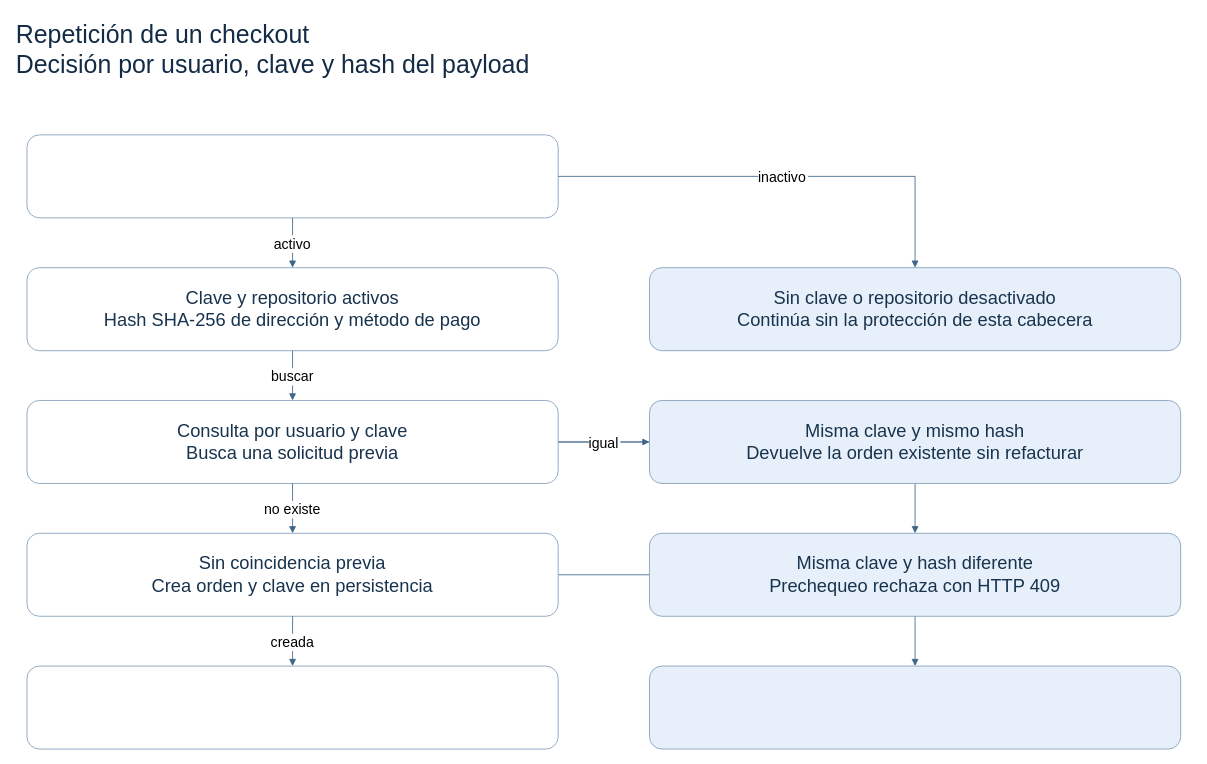
This 1207x764 diagram has some shape labels left out. The centre of each missing label's shape, as x and y in pixels:
"Conflicto de inserción concurrente Relee y devuelve la orden ganadora" belongs at point 915,707.
"generarOrdenDesdeCarrito Obtiene snapshot y resuelve repositorio de claves" belongs at point 292,176.
"Orden creada Solicita factura y libera reservas al completar" belongs at point 292,707.
